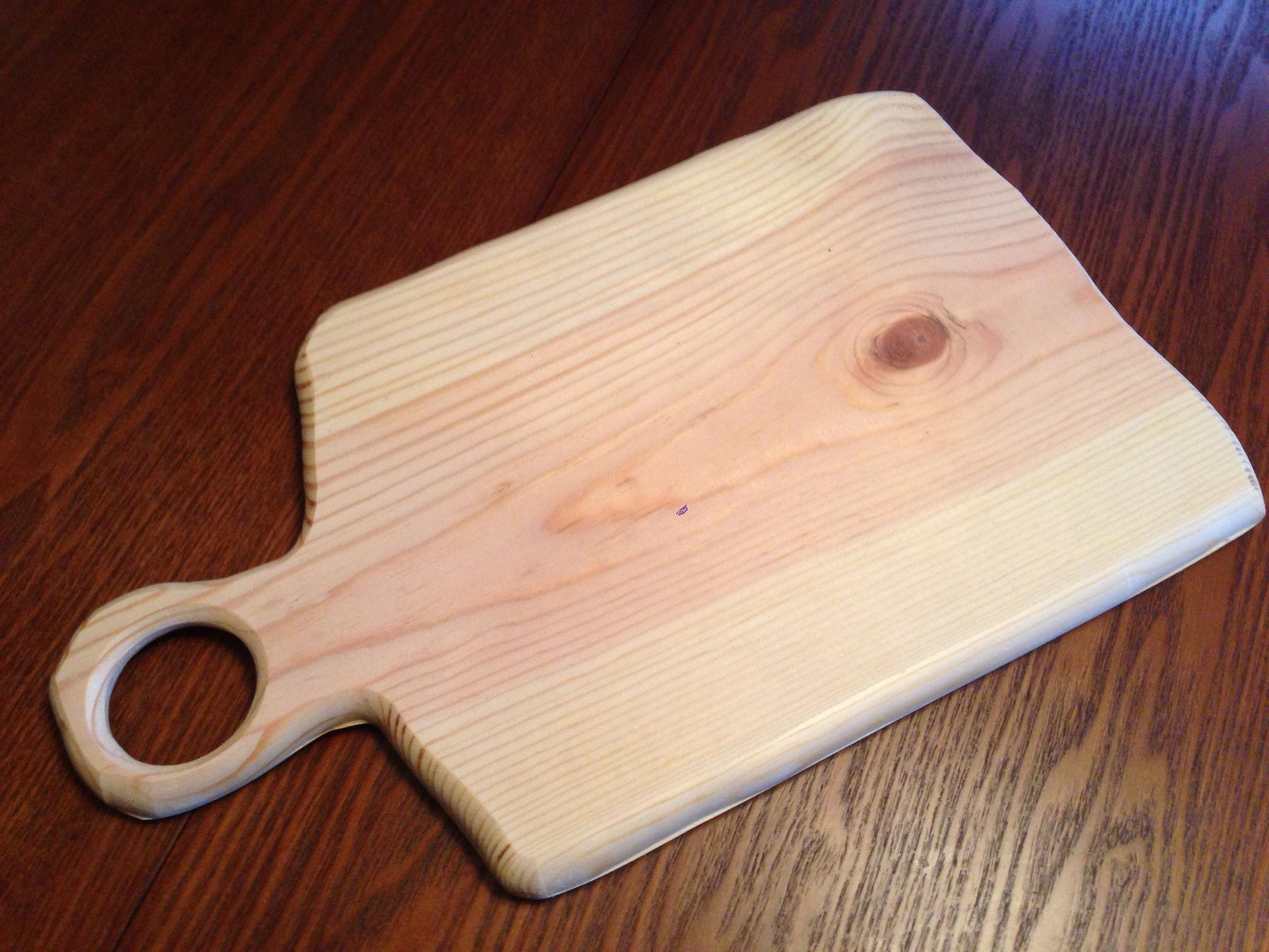gloved_hand: (35, 82, 1269, 913)
